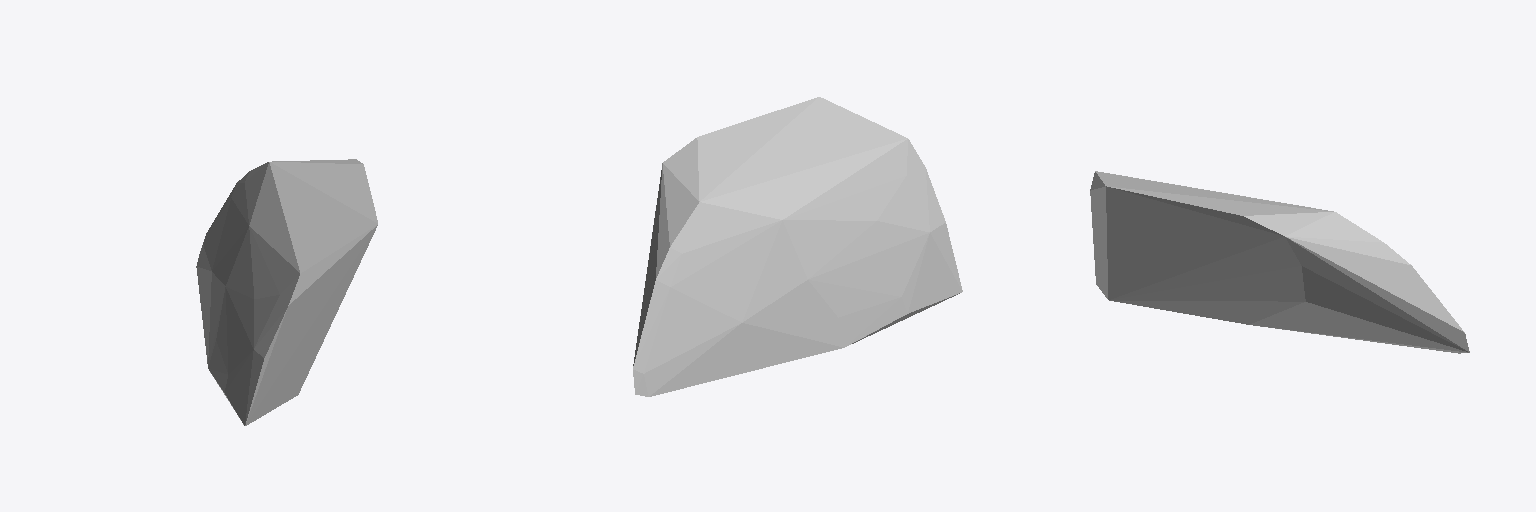
The model's file is mug_cup_collision_30.obj.
3 views of the same model, side by side, from view 1: azimuth 30°, elevation 25°; view 2: azimuth 150°, elevation 25°; view 3: azimuth 270°, elevation 25° (orthographic).
Size of the model in its own units: 0.0174 by 0.014 by 0.0277.